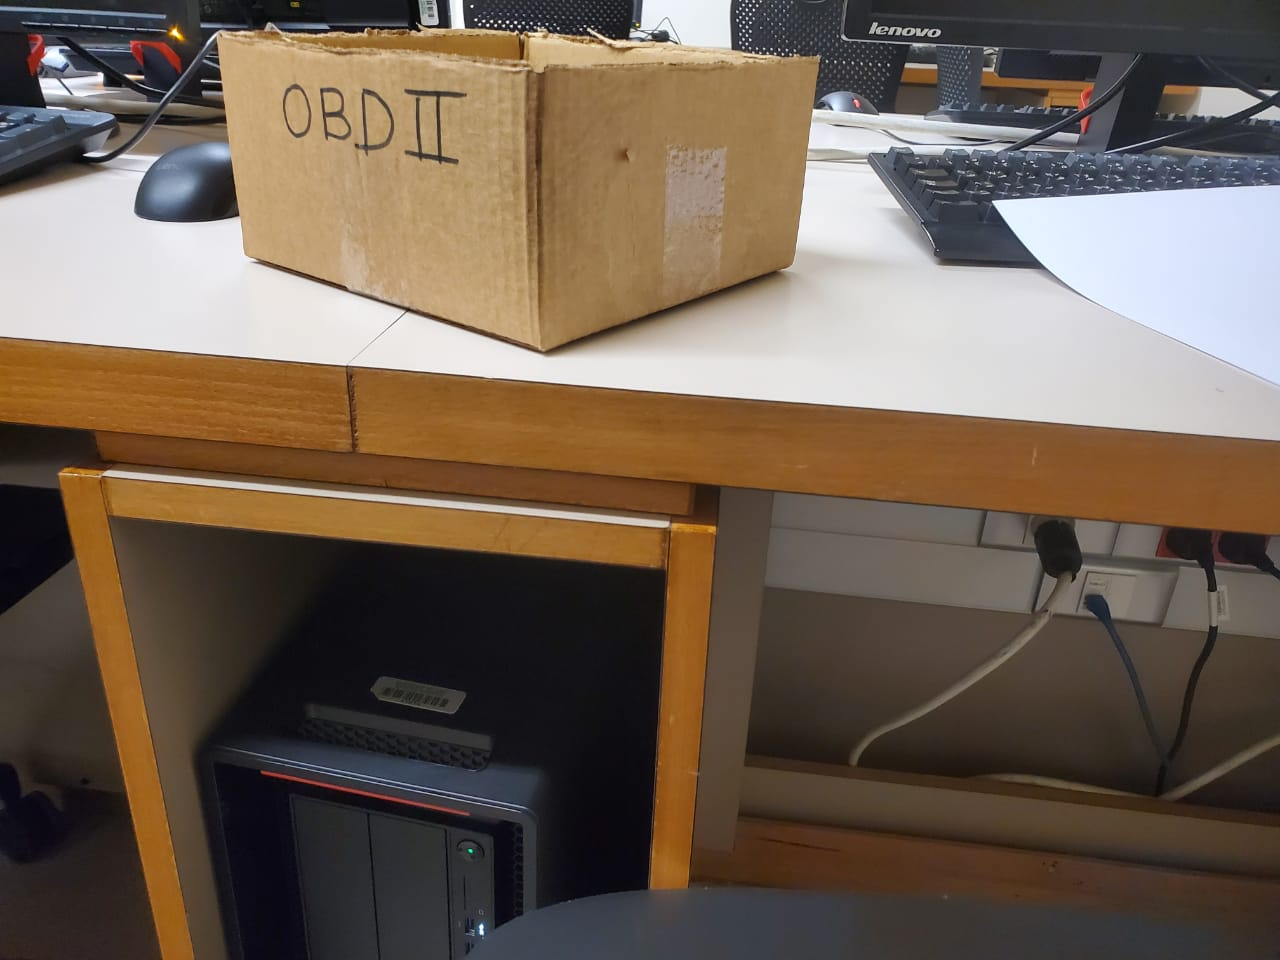CBox: (207, 17, 826, 365)
